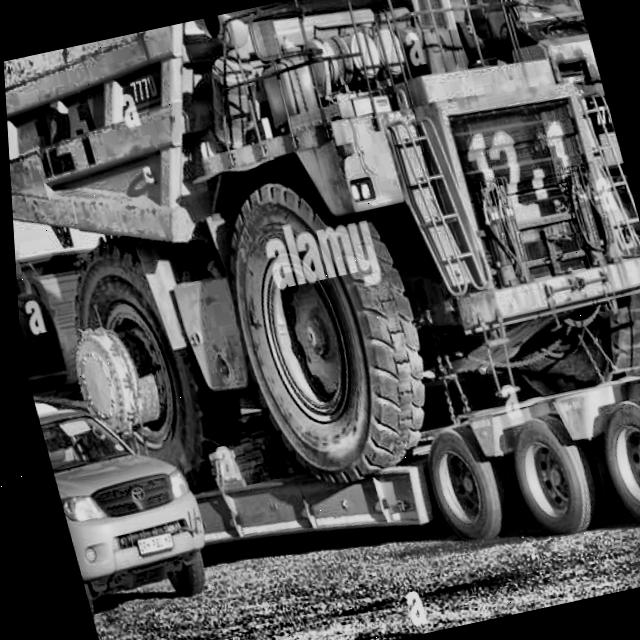dump_truck: (0, 0, 640, 516)
light_vehicle: (14, 290, 225, 640)
